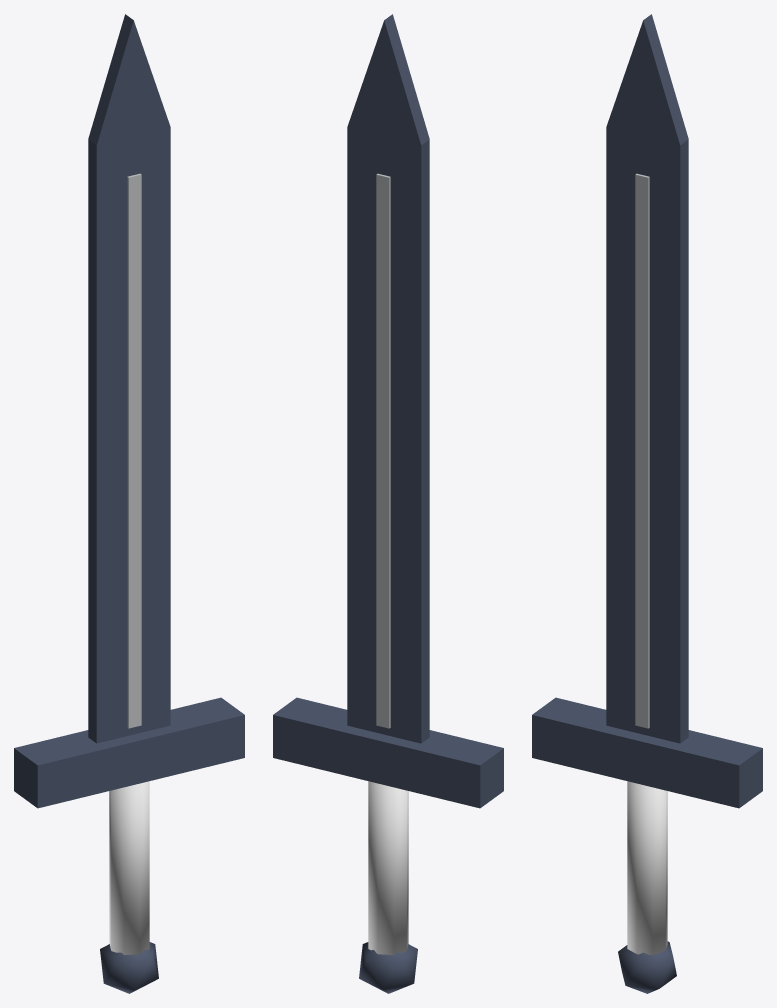
File: lead_broadsword.glb
3 renders of one model, left to right at view 1: azimuth 30°, elevation 25°; view 2: azimuth 150°, elevation 25°; view 3: azimuth 330°, elevation 25°, orthographic.
Parts seen in each view (by area): view 1: lead_broadsword_v0; view 2: lead_broadsword_v0; view 3: lead_broadsword_v0.
Part boxes in pixels (x1,y1,x2,y2): lead_broadsword_v0: (14,14,244,993); lead_broadsword_v0: (273,14,503,993); lead_broadsword_v0: (532,14,762,993).
Size of the model in its own units: 0.252 by 1.13 by 0.0595.
